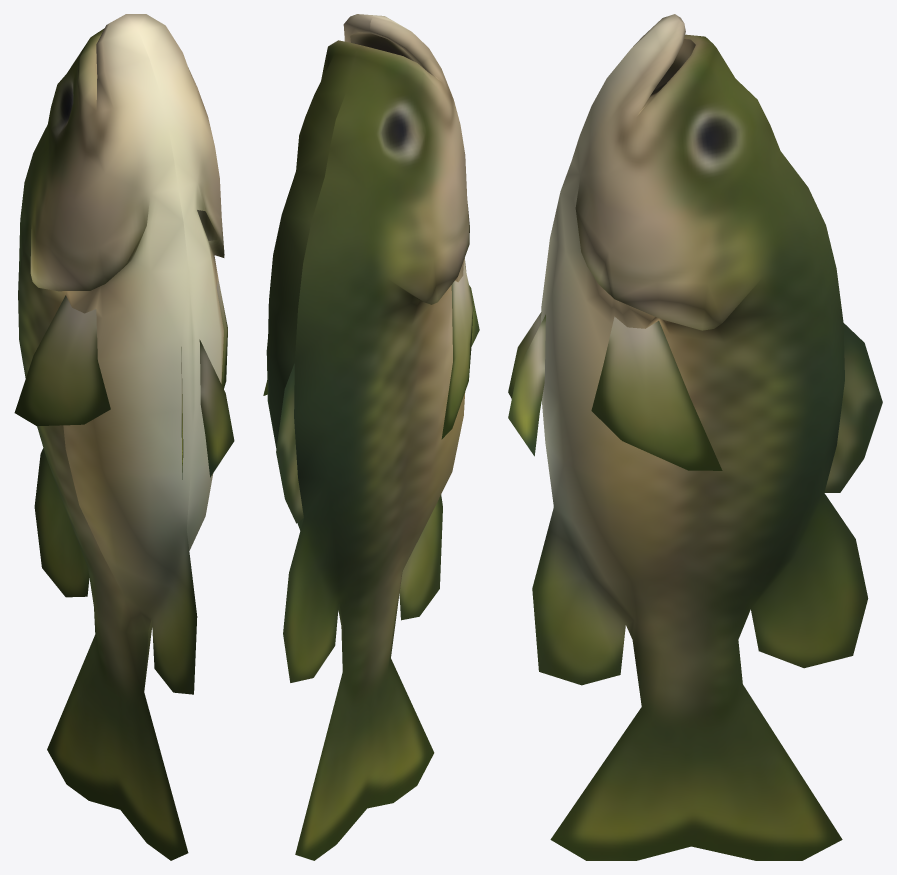
The model's file is black-bass.glb.
The picture shows the model from 3 angles, left to right: view 1: azimuth 30°, elevation 25°; view 2: azimuth 150°, elevation 25°; view 3: azimuth 270°, elevation 25°; orthographic projection. The views are drawn at different scales.
Visible parts, largest first — view 1: FishBlackbass_node6; view 2: FishBlackbass_node6; view 3: FishBlackbass_node6.
Part boxes in pixels (x1=…): FishBlackbass_node6: x1=14, y1=14, x2=234, y2=860; FishBlackbass_node6: x1=263, y1=14, x2=479, y2=860; FishBlackbass_node6: x1=508, y1=14, x2=882, y2=860.
Size of the model in its own units: 0.188 by 0.8068 by 0.3259.
1 material, 1 textured.
